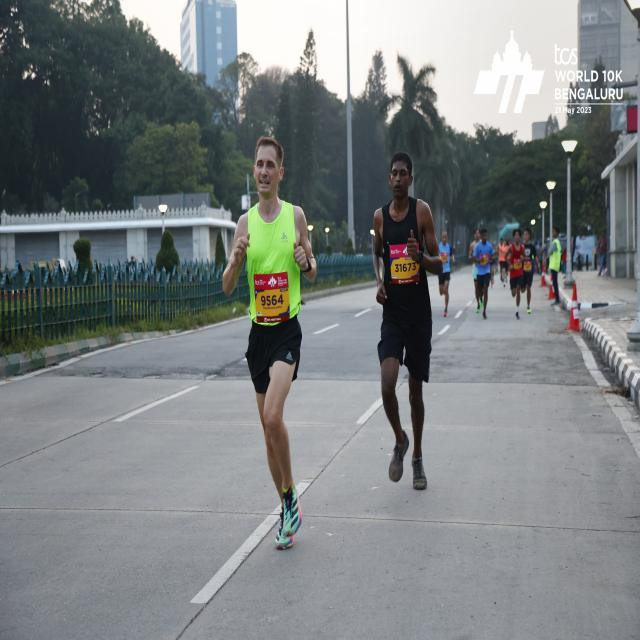dorsal: (253, 271, 293, 328), (386, 238, 422, 288)
